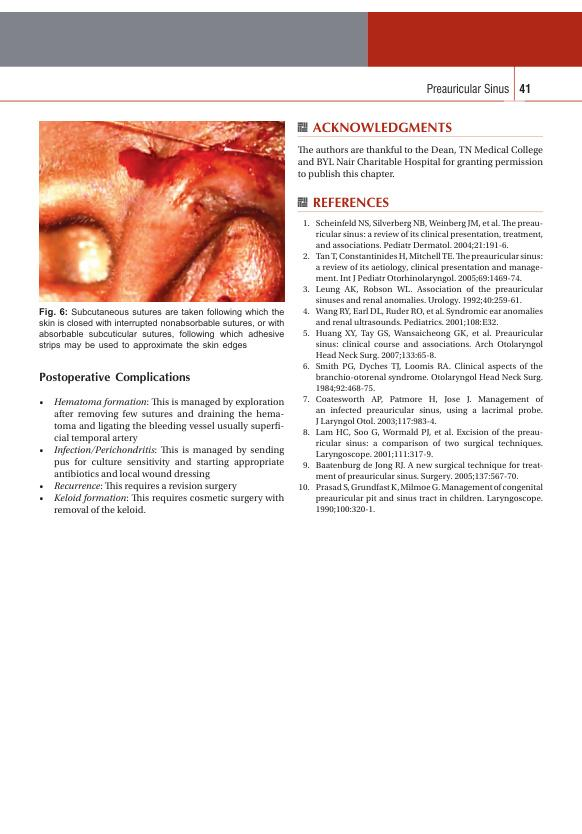caption: (38, 306, 285, 351)
header: (426, 81, 511, 96)
image: (40, 120, 286, 302)
list: (297, 216, 546, 515)
section-heading: (311, 120, 454, 134), (312, 195, 390, 209)
sub-section-heading: (37, 369, 191, 384)
text: (36, 395, 287, 516), (296, 143, 544, 181)
